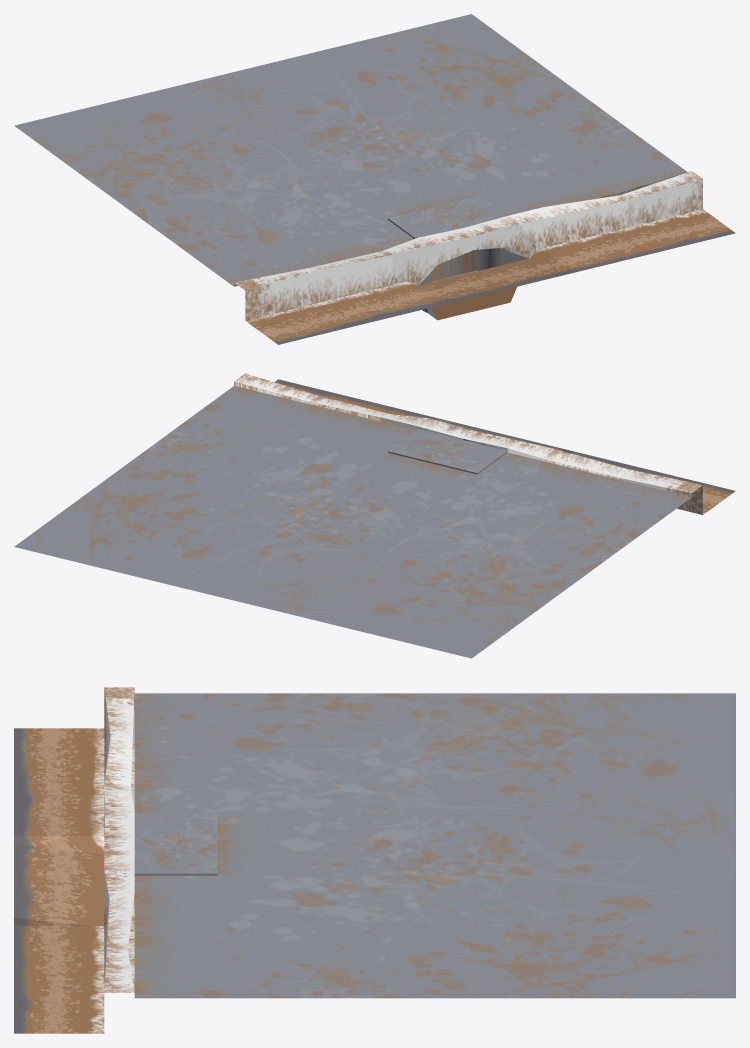
The model's file is Manhole_02.fbx.
The picture shows the model from 3 angles, top to bottom: view 1: azimuth 30°, elevation 25°; view 2: azimuth 150°, elevation 25°; view 3: azimuth 270°, elevation 25°; orthographic projection. The views are drawn at different scales.
Visible parts, largest first — view 1: Manhole_02, Manhole_02_Grid; view 2: Manhole_02, Manhole_02_Grid; view 3: Manhole_02, Manhole_02_Grid.
Part boxes in pixels (box(x1,y1,x2,y2)): Manhole_02: box(14, 14, 735, 344); Manhole_02_Grid: box(388, 196, 504, 238); Manhole_02: box(14, 373, 735, 658); Manhole_02_Grid: box(388, 429, 507, 474); Manhole_02: box(14, 687, 735, 1033); Manhole_02_Grid: box(134, 814, 217, 875).
Bounding box in the file's own units: 250 × 40 × 250.
